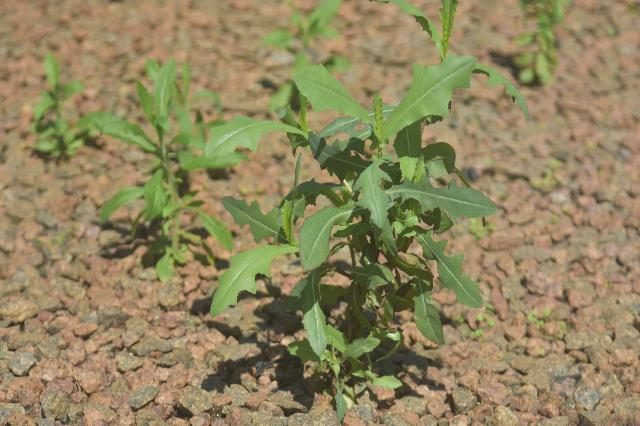MalezaMontesDelPlata: (198, 55, 550, 416), (86, 62, 221, 293), (24, 53, 98, 171)
